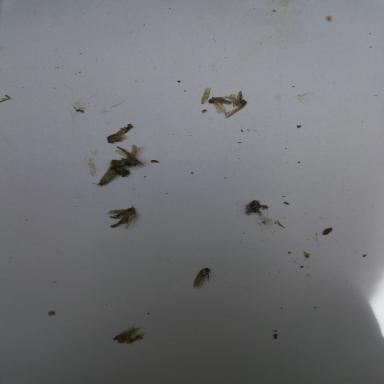pbw: (224, 89, 247, 119), (90, 168, 118, 188), (207, 94, 232, 113), (191, 266, 211, 289)
